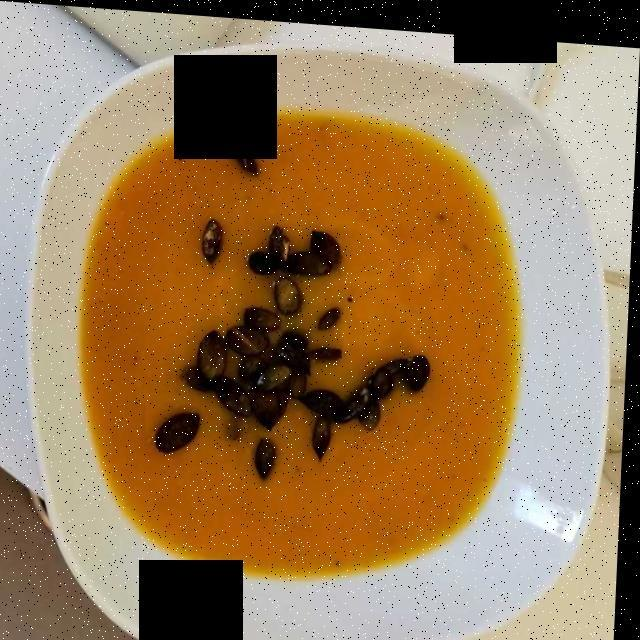pumpkin-seeds: (133, 141, 442, 477)
soup: (86, 108, 516, 563)
